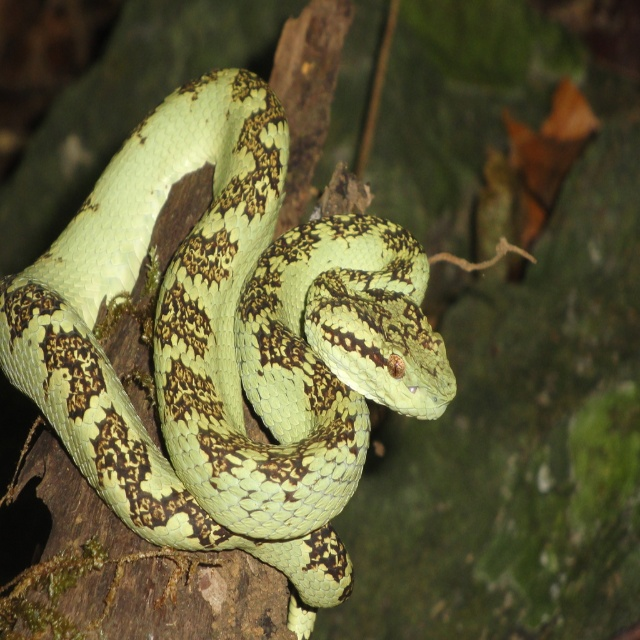Snake: (0, 66, 459, 639)
